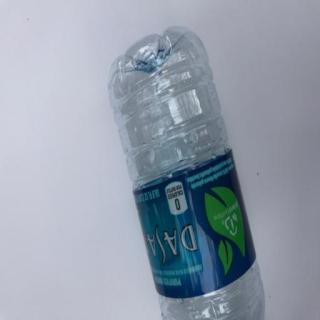Plastic-bottle: (108, 25, 268, 320)
